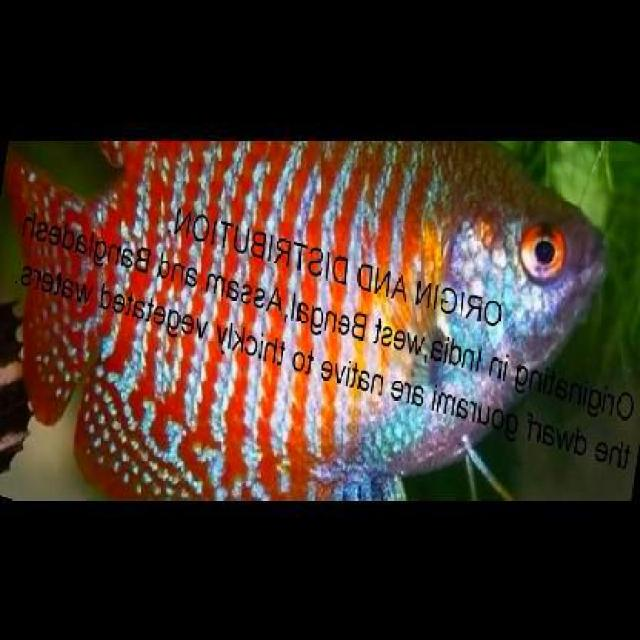Gourami: (2, 139, 610, 501)
